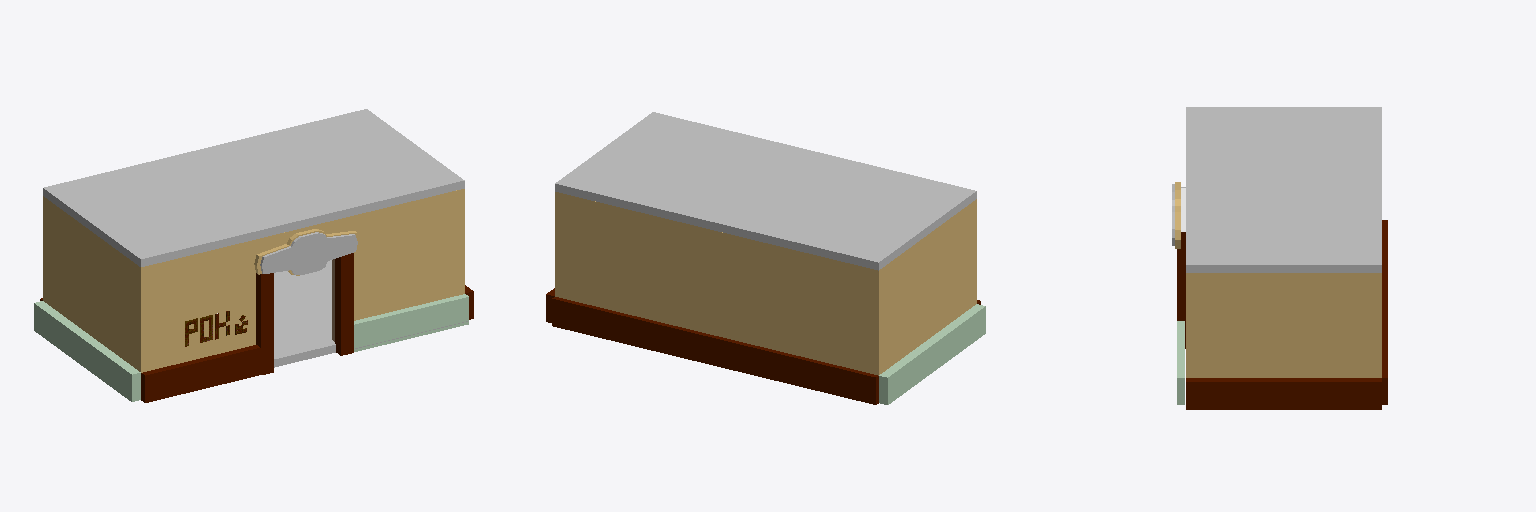
3 views of the same model, side by side, from view 1: azimuth 30°, elevation 25°; view 2: azimuth 150°, elevation 25°; view 3: azimuth 270°, elevation 25° (orthographic).
Visible parts, largest first — view 1: Cube.019, Box001, Box003.002_Box003.003, Cube.020, Box003.003_Box003.005, Box002.002, Box002.003_Box002.004, Box001.002_Box001.003, Cube.012_Cube.001, Box002, Cube.002; view 2: Box002, Cube.019, Box002.001, Box003.002_Box003.003, Box003.003_Box003.005, Box001; view 3: Cube.019, Box003.000_Box003.006, Box003.001, Box001, Box002, Box002.001, Box001.002_Box001.003, Box002.003_Box002.004.
Boxes of the visible parts, x1=… form: Cube.019: x1=43, y1=109, x2=464, y2=266; Box001: x1=135, y1=189, x2=464, y2=372; Box003.002_Box003.003: x1=49, y1=201, x2=134, y2=367; Cube.020: x1=274, y1=260, x2=335, y2=367; Box003.003_Box003.005: x1=34, y1=301, x2=140, y2=401; Box002.002: x1=141, y1=345, x2=260, y2=402; Box002.003_Box002.004: x1=354, y1=294, x2=468, y2=351; Box001.002_Box001.003: x1=256, y1=253, x2=353, y2=374; Cube.012_Cube.001: x1=260, y1=232, x2=357, y2=274; Box002: x1=43, y1=196, x2=48, y2=304; Cube.002: x1=254, y1=229, x2=359, y2=275; Box002: x1=555, y1=192, x2=884, y2=375; Cube.019: x1=555, y1=112, x2=976, y2=270; Box002.001: x1=552, y1=297, x2=878, y2=404; Box003.002_Box003.003: x1=885, y1=204, x2=970, y2=370; Box003.003_Box003.005: x1=879, y1=304, x2=985, y2=404; Box001: x1=971, y1=199, x2=976, y2=307; Cube.019: x1=1186, y1=107, x2=1381, y2=272; Box003.000_Box003.006: x1=1198, y1=273, x2=1370, y2=377; Box003.001: x1=1186, y1=378, x2=1381, y2=409; Box001: x1=1186, y1=273, x2=1197, y2=377; Box002: x1=1371, y1=273, x2=1381, y2=377; Box002.001: x1=1382, y1=220, x2=1387, y2=404; Box001.002_Box001.003: x1=1177, y1=187, x2=1185, y2=348; Box002.003_Box002.004: x1=1177, y1=321, x2=1184, y2=404.
Size of the model in its own units: 400 by 157 by 218.
6 materials, 2 textured.